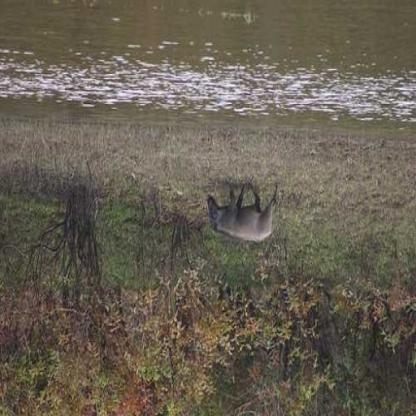boar: (182, 173, 315, 251)
